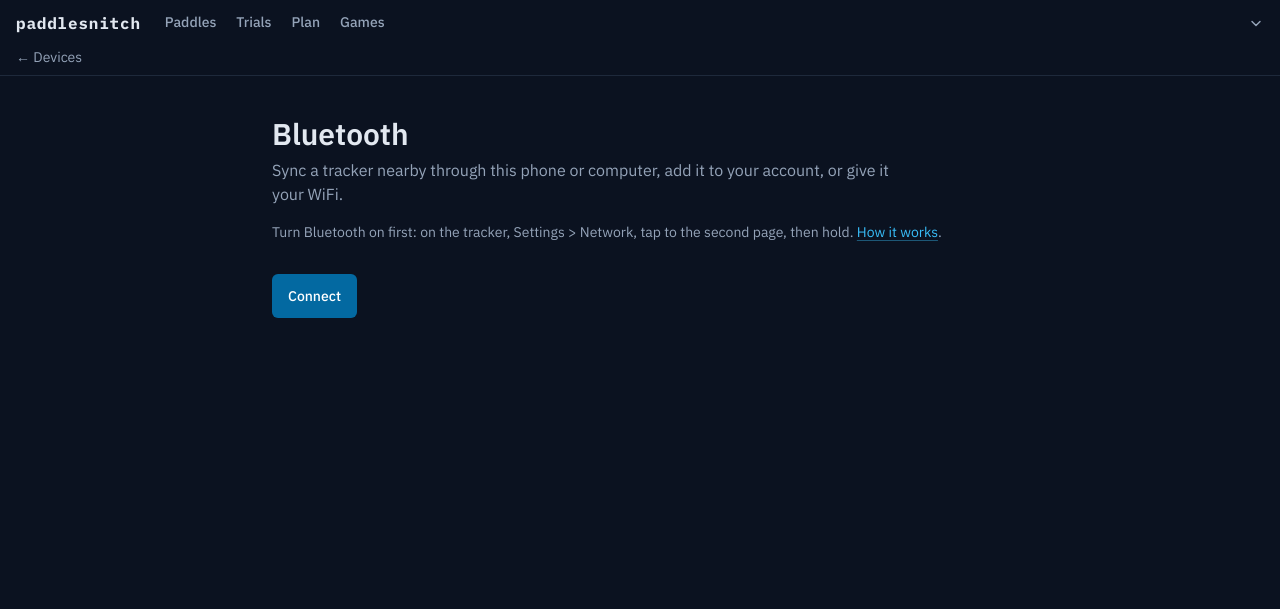
Test: Bluetooth test page › connects, reads the tracker and says it is yours
Click the button "Connect" at (314,296), box [272, 274, 357, 318]
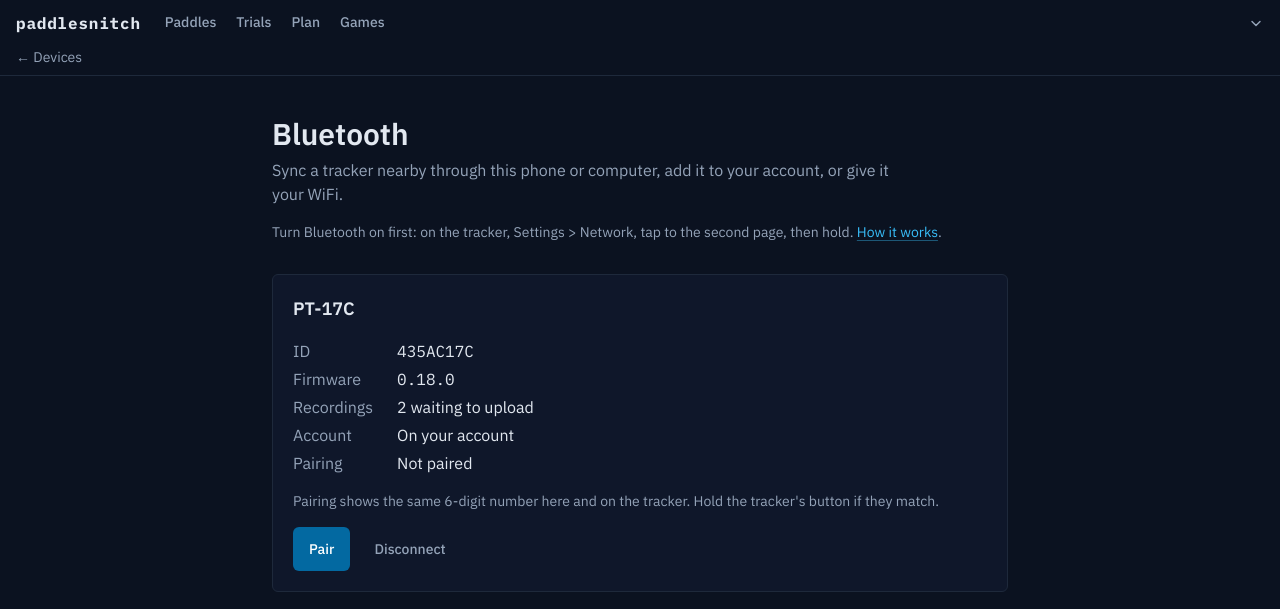
Expected: the text "PT-17C" is shown, [293, 297, 354, 320]
Expected: the text "435AC17C" is shown, [397, 341, 474, 361]
Expected: the text "0.18.0" is shown, [397, 369, 455, 389]
